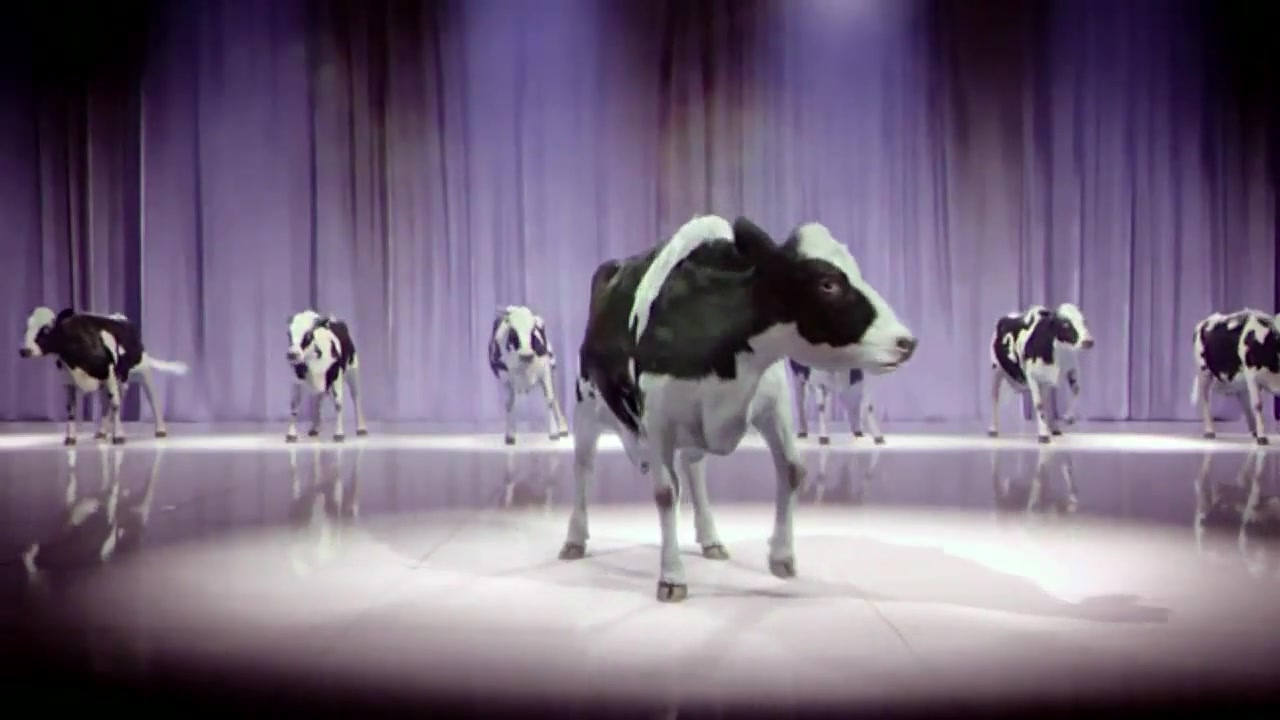cow: (564, 212, 918, 609)
